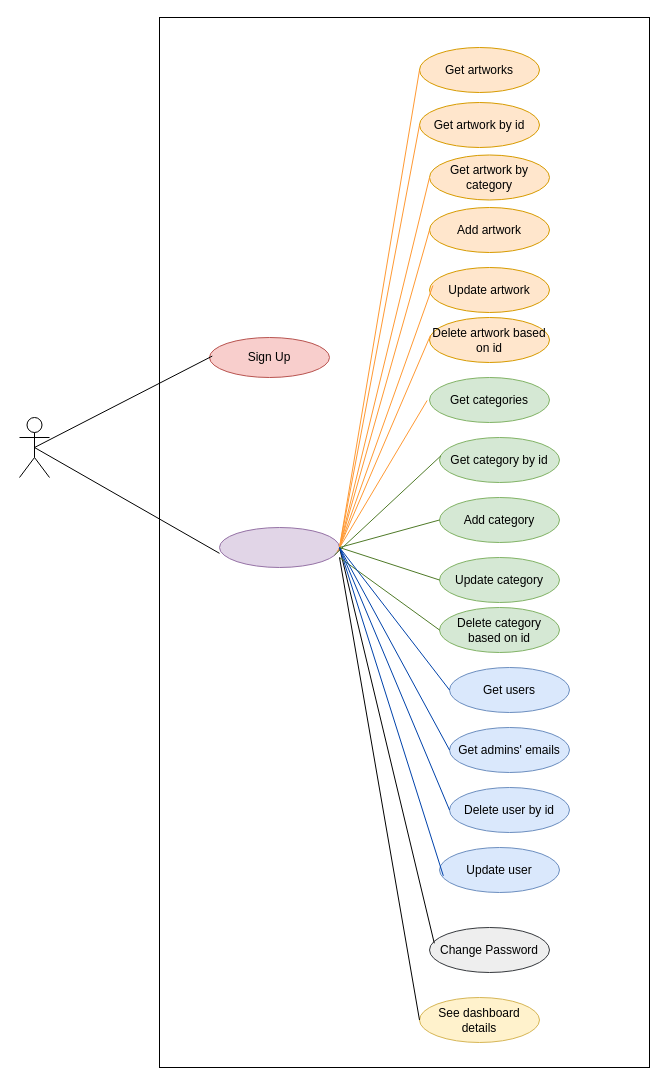
The diagram is 667 pixels wide and 1085 high, and some of its shapes have lost their labels. Each missing label, with the centre of its shape:
"Admin" goes at [34,447].
"Login" goes at [279,547].
